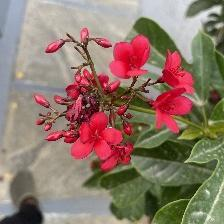jatropha: (71, 111, 124, 167), (111, 34, 154, 85), (153, 91, 193, 133), (164, 49, 199, 95)
